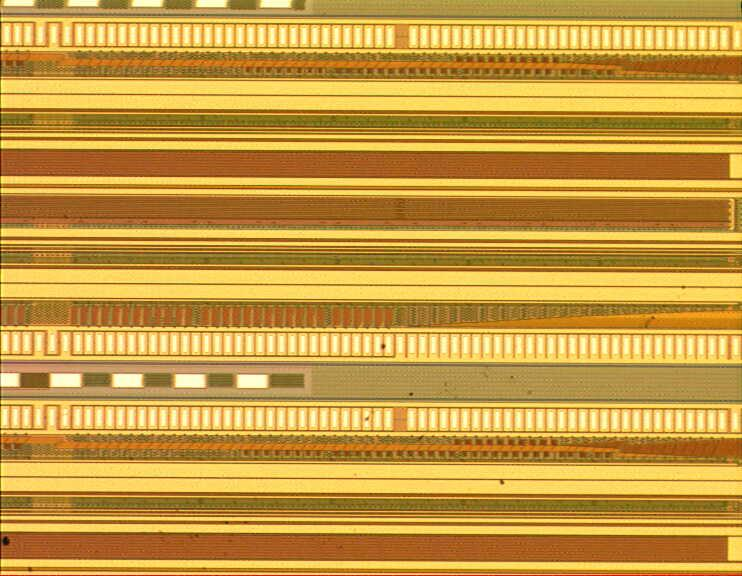PO CONTAMINATION: (123, 194, 692, 545)
